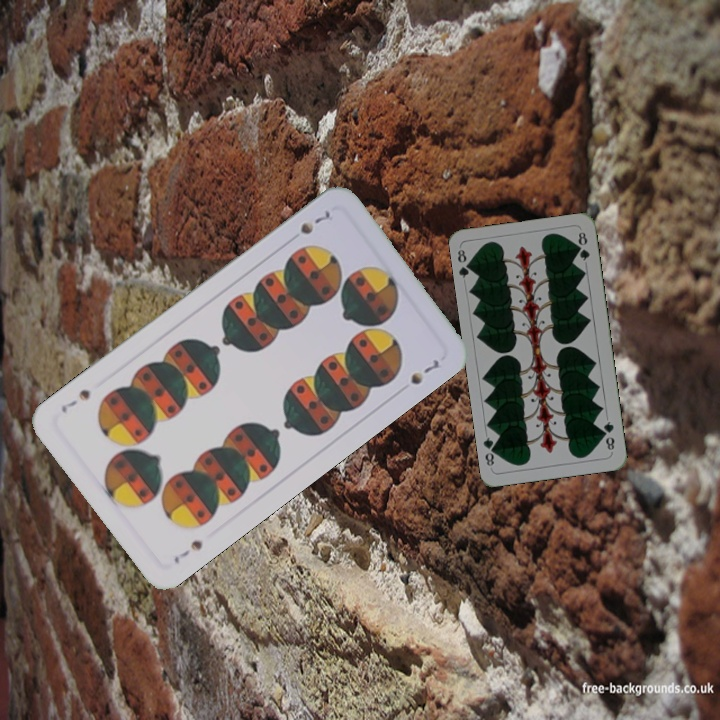G8: (453, 246, 475, 281), (599, 417, 617, 453)
S7: (169, 535, 205, 567), (296, 207, 333, 238)
